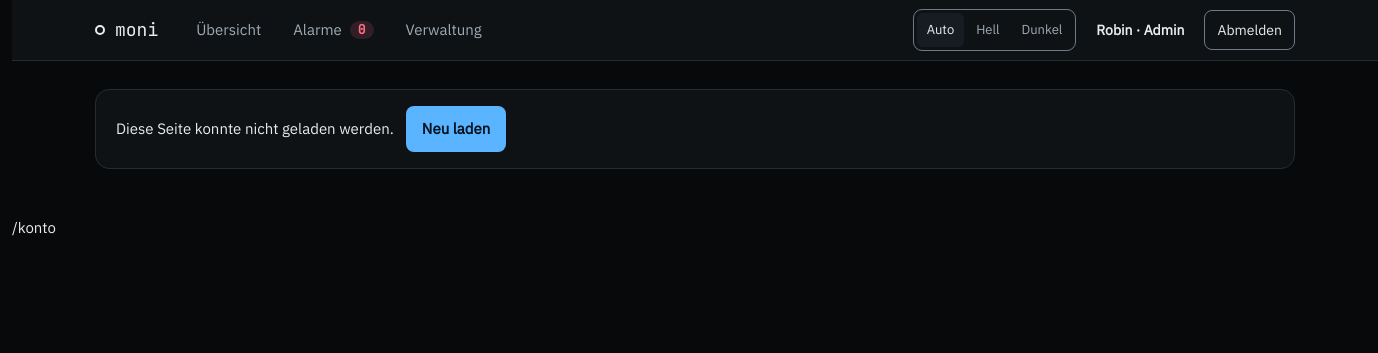
Test: Renderfehler einer Seite: Hinweis im Rahmen, Navigation bleibt, Seitenwechsel erholt sich
Expected: the message shows "Diese Seite konnte nicht geladen werden.", [116, 119, 394, 138]
Expected: the navigation bar named "Hauptnavigation" is shown, [196, 20, 482, 39]
Click the link "Übersicht".
click(229, 30)  # box [196, 20, 261, 39]
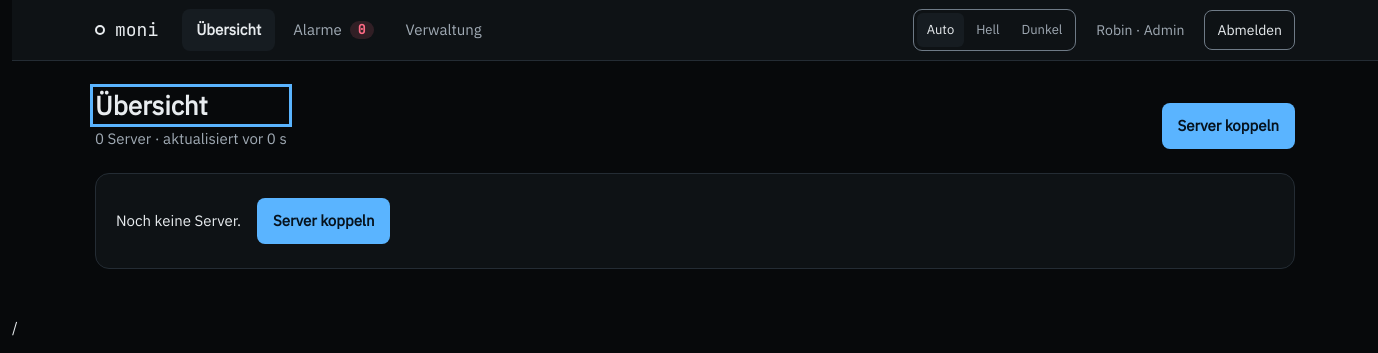
Result: the heading "Übersicht" is shown at [95, 88, 208, 122]
Result: the message "Diese Seite konnte nicht geladen werden. Neu laden" is gone
